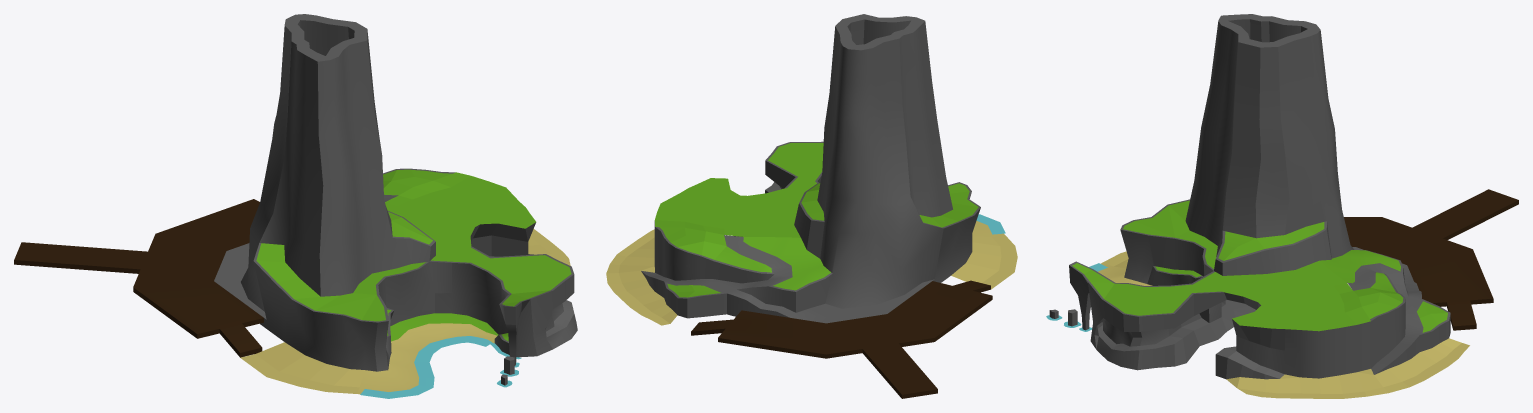
The model's file is SM_BeachScene.fbx.
3 renders of one model, left to right at view 1: azimuth 30°, elevation 25°; view 2: azimuth 150°, elevation 25°; view 3: azimuth 270°, elevation 25°, orthographic. The views are drawn at different scales.
Visible parts, largest first — view 1: Cliffs, Box006, Sand, Waves2, Waves1, Rocks; view 2: Cliffs, Box006, Sand; view 3: Cliffs, Sand, Box006, Cave, Rocks.
Part boxes in pixels (box(x1,y1,x2,y2)): Cliffs: box(214, 14, 577, 371); Box006: box(14, 199, 263, 357); Sand: box(240, 212, 570, 394); Waves2: box(360, 339, 489, 398); Waves1: box(363, 336, 492, 395); Rocks: box(386, 308, 514, 385); Cliffs: box(641, 14, 980, 323); Box006: box(691, 280, 992, 398); Sand: box(606, 183, 1017, 325); Cliffs: box(1069, 14, 1450, 379); Sand: box(1098, 200, 1469, 398); Box006: box(1344, 189, 1518, 330); Cave: box(1199, 300, 1255, 339); Rocks: box(1049, 266, 1203, 326).
Bounding box in the file's own units: 9804 × 6000 × 9954.
